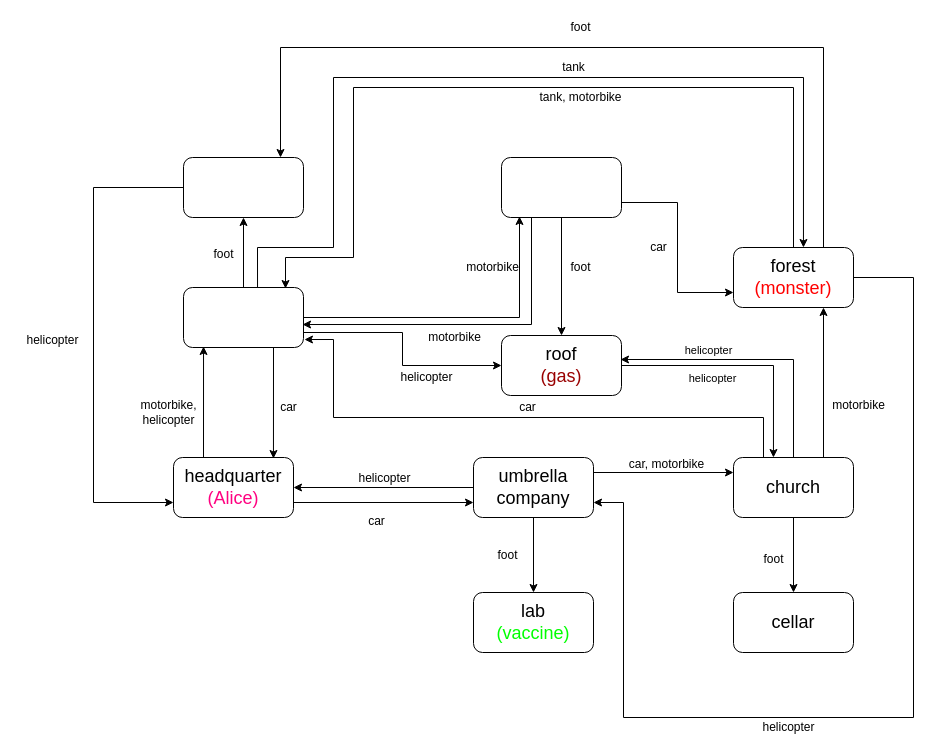
Image size: 939x754. Some labels were removed from this diagram. The shapes that lost their labels are listed below. From the top down, each one's centre as x and y in pixels, then its label:
At (x=243, y=187): "ruin (zombies)".
At (x=561, y=187): "castle".
At (x=243, y=317): "village".
